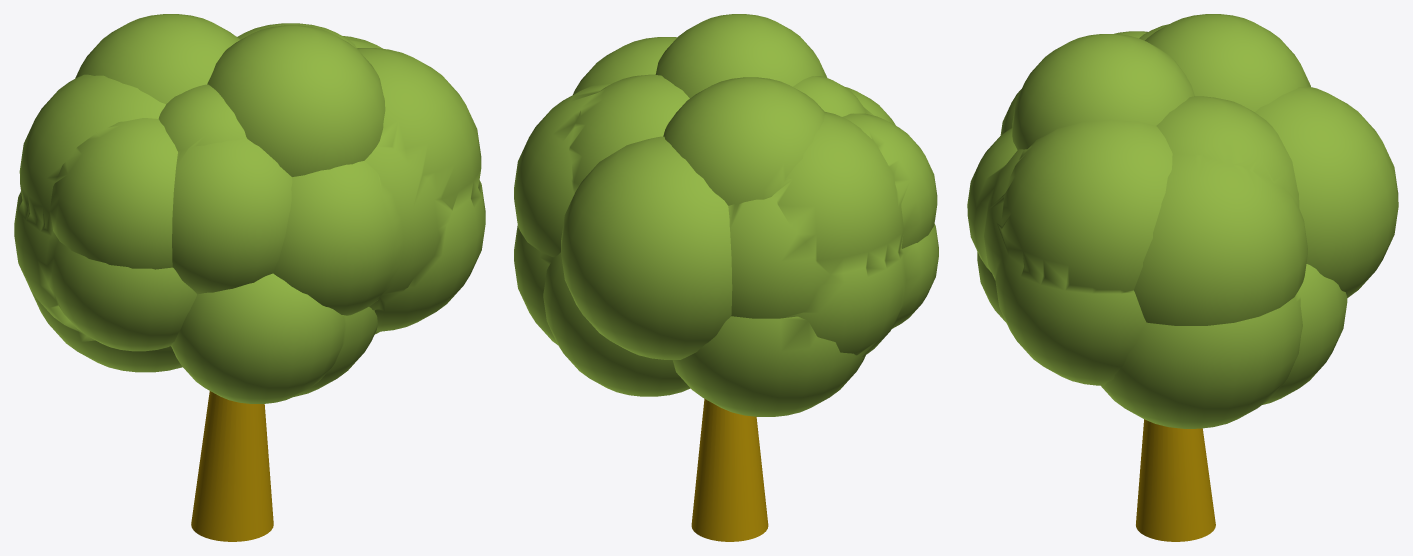
File: TREE.fbx
3 views of the same model, side by side, from view 1: azimuth 30°, elevation 25°; view 2: azimuth 150°, elevation 25°; view 3: azimuth 270°, elevation 25° (orthographic). The views are drawn at different scales.
Parts seen in each view (by area): view 1: TREE; view 2: TREE; view 3: TREE.
Part boxes in pixels (bbox=[...]): TREE: bbox=[14, 14, 485, 541]; TREE: bbox=[514, 14, 938, 541]; TREE: bbox=[967, 14, 1398, 541].
Bounding box in the file's own units: 589 × 715 × 565.
